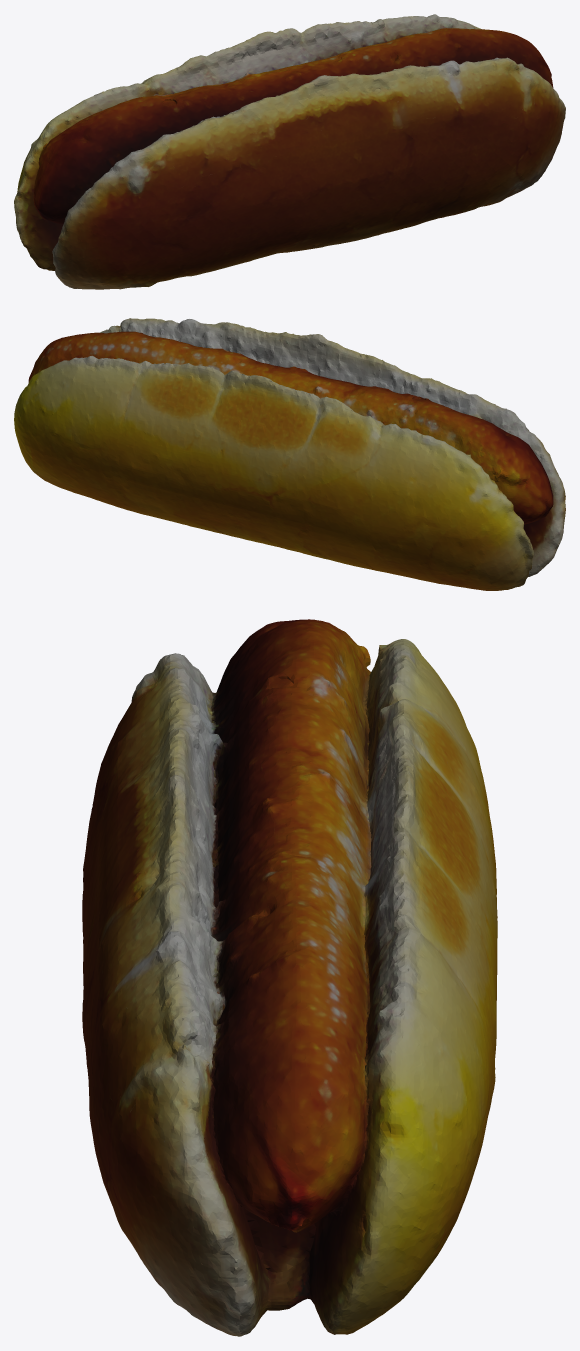
The model's file is hotdog.glb.
3 renders of one model, top to bottom at view 1: azimuth 30°, elevation 25°; view 2: azimuth 150°, elevation 25°; view 3: azimuth 270°, elevation 25°, orthographic. The views are drawn at different scales.
Visible parts, largest first — view 1: world; view 2: world; view 3: world.
Boxes of the visible parts, box(x1,y1,x2,y2) form: world: box(14, 14, 565, 289); world: box(14, 318, 565, 590); world: box(82, 619, 497, 1336).
Bounding box in the file's own units: 0.9997 × 0.3344 × 0.3475.
1 material, 1 textured.
